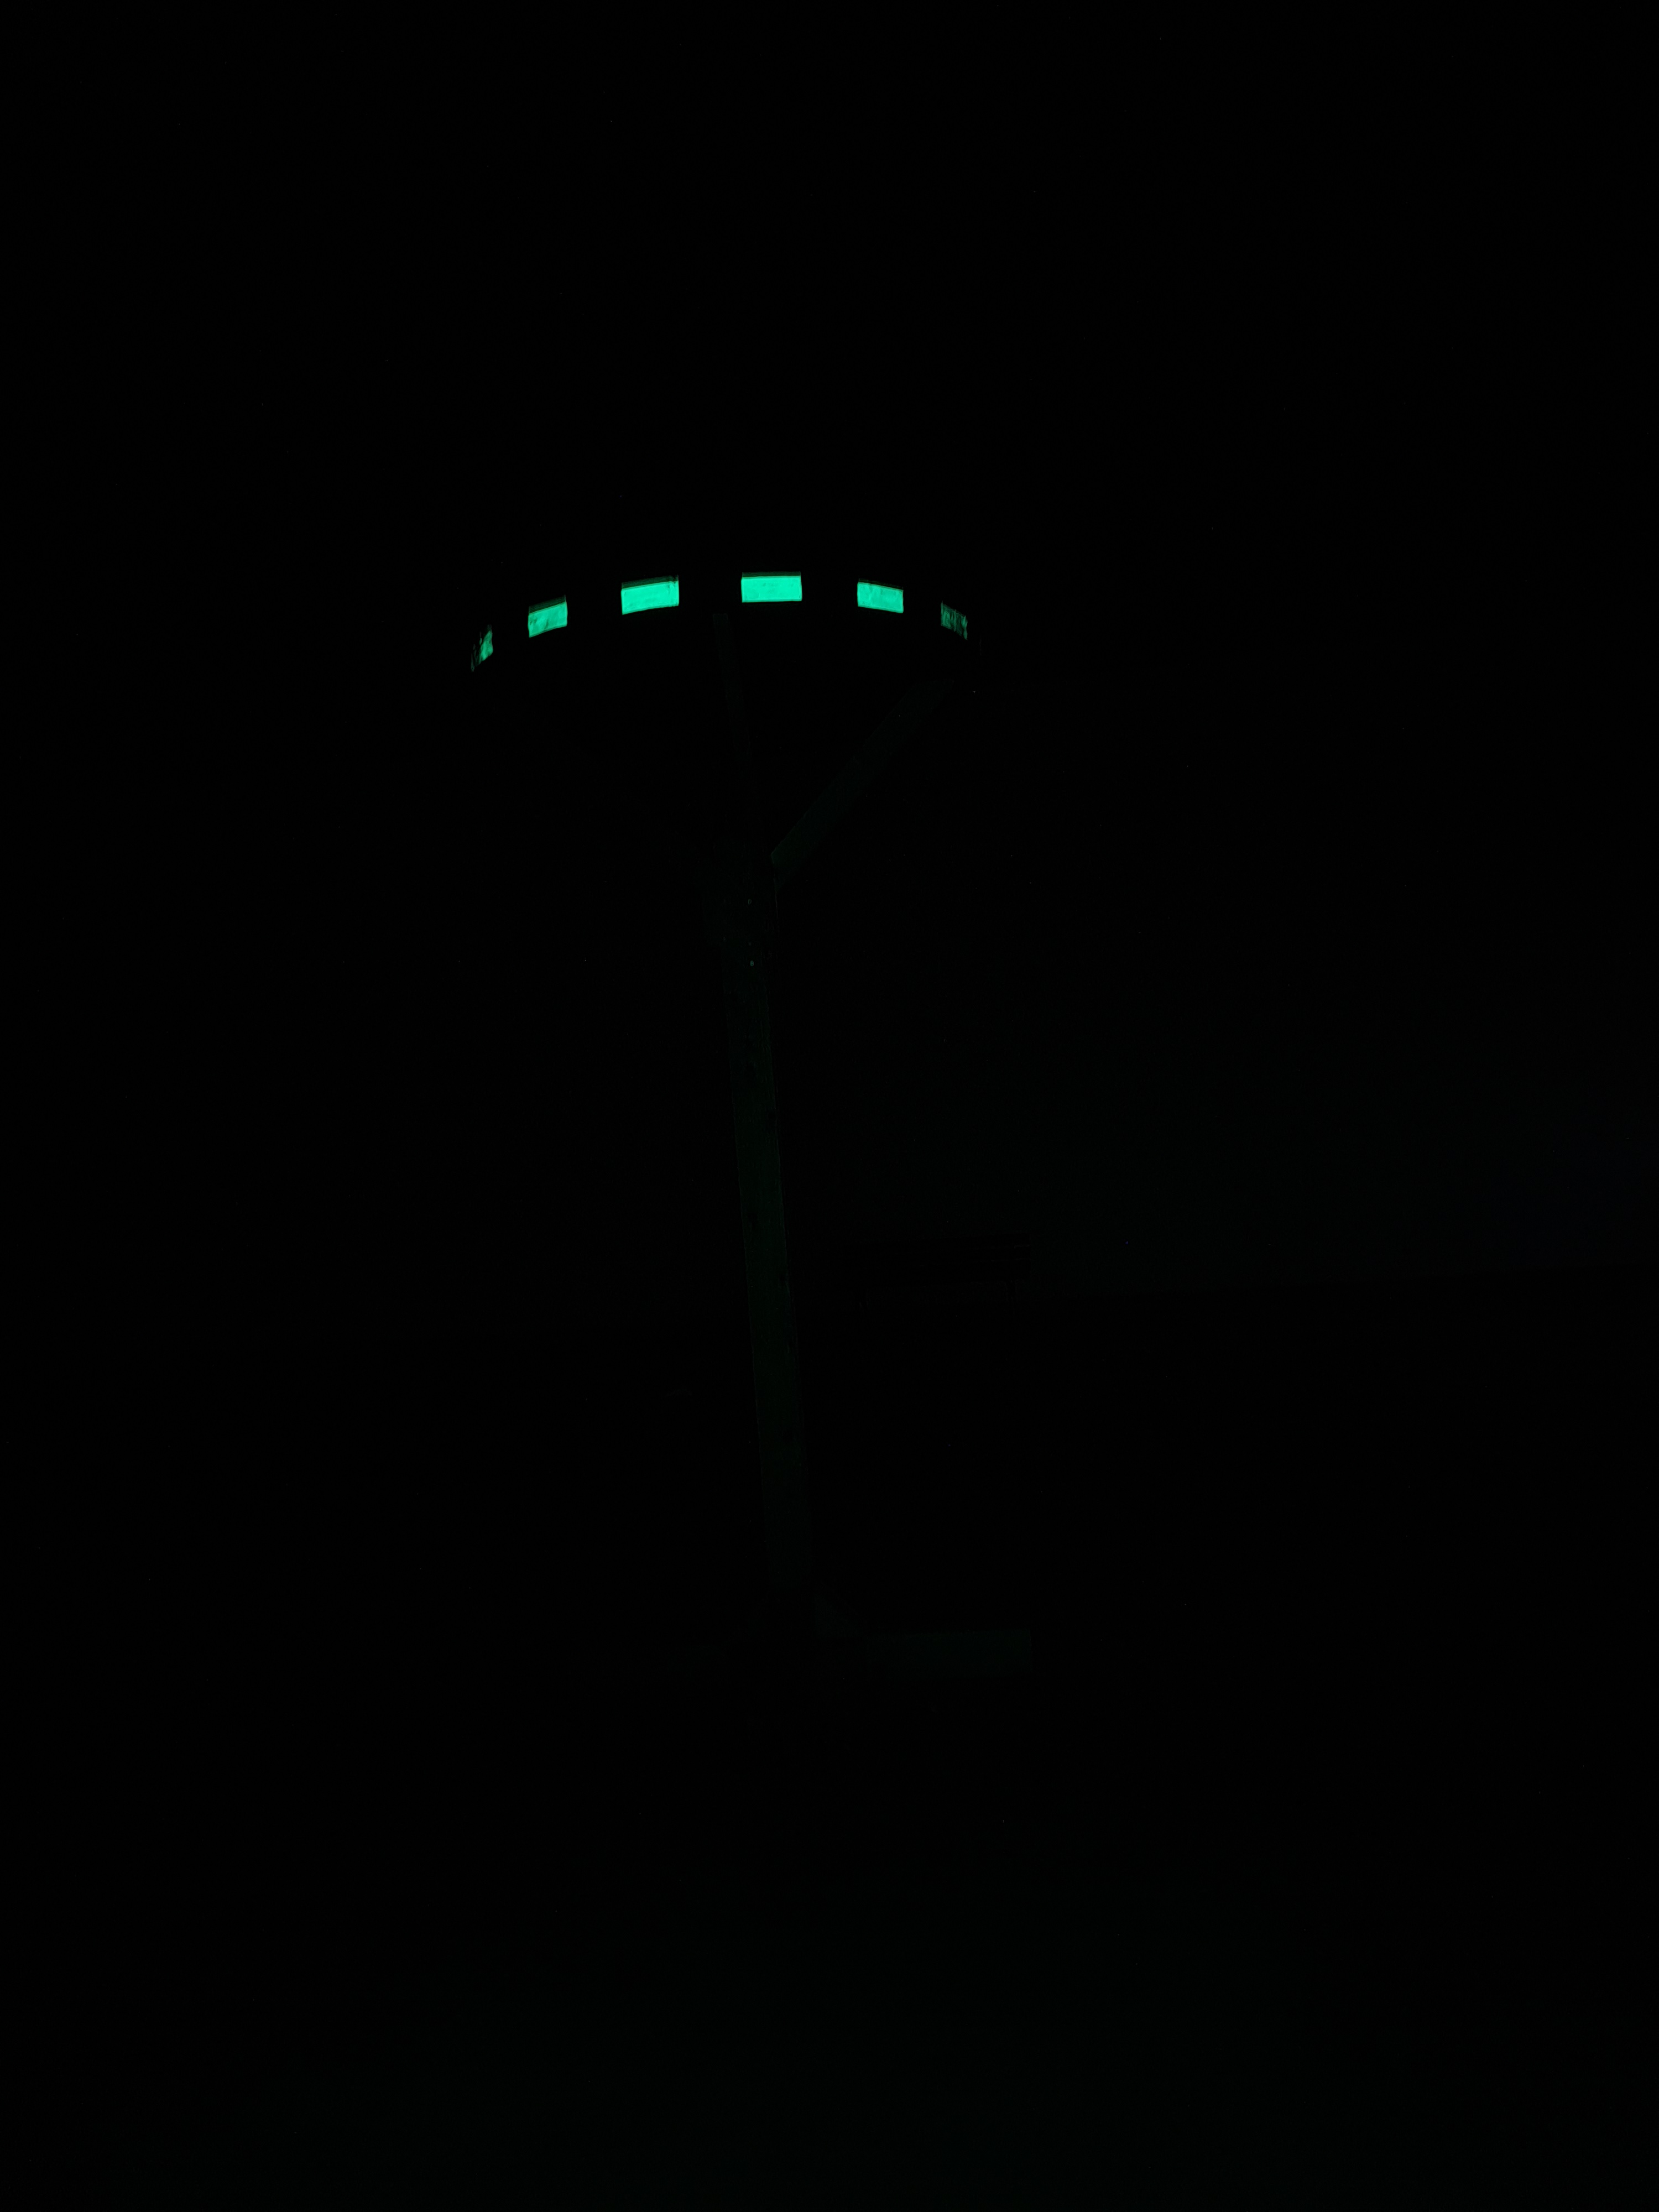hoop: (472, 563, 971, 686)
